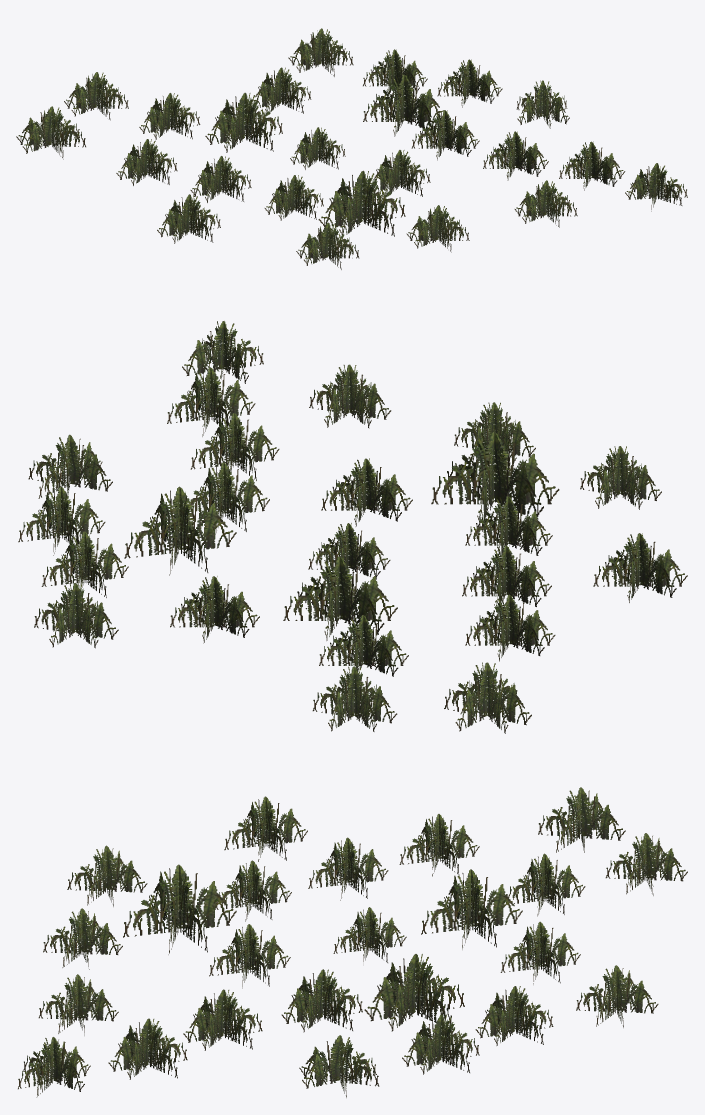
Rendered from grasstest3.obj.
3 renders of one model, top to bottom at view 1: azimuth 30°, elevation 25°; view 2: azimuth 150°, elevation 25°; view 3: azimuth 270°, elevation 25°, orthographic. The views are drawn at different scales.
Visible parts, largest first — view 1: Plane010, Plane022, Plane017, Plane026, Plane014, Plane007, Plane004, Plane006, Plane019, Plane025, Plane024, Plane023 (+12 smaller); view 2: Plane010, Plane022, Plane017, Plane014, Plane026, Plane008, Plane023, Plane020, Plane013, Plane024, Plane019, Plane025 (+12 smaller); view 3: Plane010, Plane017, Plane022, Plane007, Plane026, Plane004, Plane006, Plane014, Plane016, Plane018, Plane015, Plane008 (+12 smaller).
Boxes of the visible parts, box(x1,y1,x2,y2) form: Plane010: box(318, 170, 405, 237); Plane022: box(205, 92, 282, 152); Plane017: box(363, 74, 443, 136); Plane026: box(16, 106, 85, 159); Plane014: box(157, 194, 220, 243); Plane007: box(411, 110, 479, 160); Plane004: box(559, 141, 625, 190); Plane006: box(483, 131, 548, 180); Plane019: box(288, 28, 353, 76); Plane025: box(64, 72, 128, 120); Plane024: box(139, 93, 200, 139); Plane023: box(116, 139, 177, 185); Plane010: box(431, 431, 559, 525); Plane022: box(283, 556, 397, 640); Plane017: box(124, 486, 236, 575); Plane014: box(593, 533, 687, 602); Plane026: box(444, 662, 531, 733); Plane008: box(321, 458, 412, 526); Plane023: box(465, 594, 555, 661); Plane020: box(170, 576, 259, 643); Plane013: box(462, 545, 551, 606); Plane024: box(319, 614, 408, 676); Plane019: box(34, 583, 118, 648); Plane025: box(312, 666, 397, 731); Plane010: box(123, 864, 236, 954); Plane017: box(364, 954, 464, 1031); Plane022: box(421, 869, 522, 949); Plane007: box(281, 969, 362, 1032); Plane026: box(538, 787, 625, 852); Plane004: box(108, 1018, 187, 1079); Plane006: box(183, 989, 262, 1050); Plane014: box(224, 796, 307, 861); Plane016: box(402, 1014, 479, 1074); Plane018: box(475, 986, 553, 1045); Plane015: box(299, 1035, 379, 1097); Plane008: box(209, 924, 290, 988).
Bounding box in the file's own units: 2947 × 334 × 2957.
Materials: 1 (1 with a texture image).
